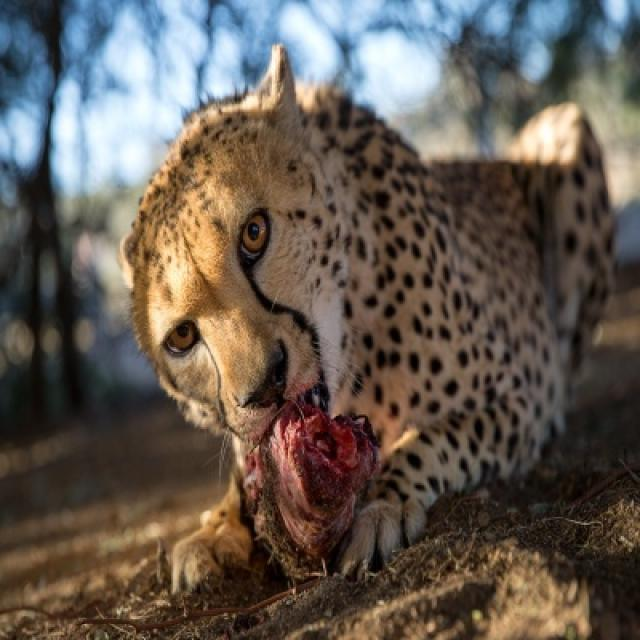Cheetah: (123, 61, 613, 558)
